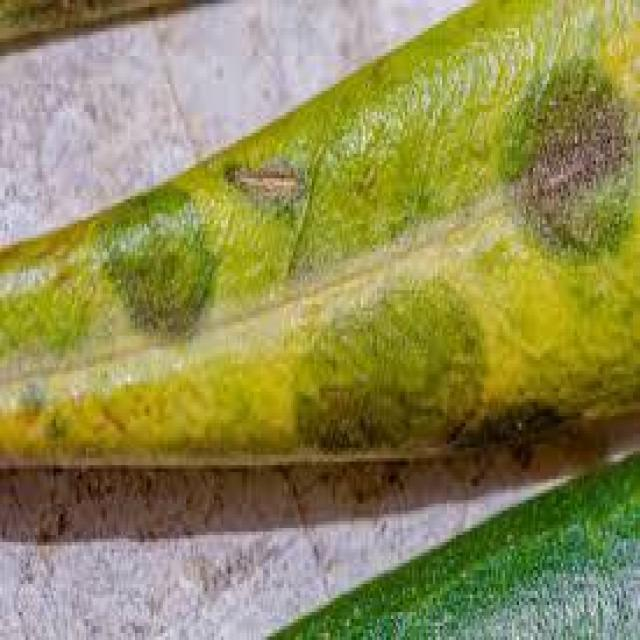Peacock Eye: (0, 0, 638, 451)
